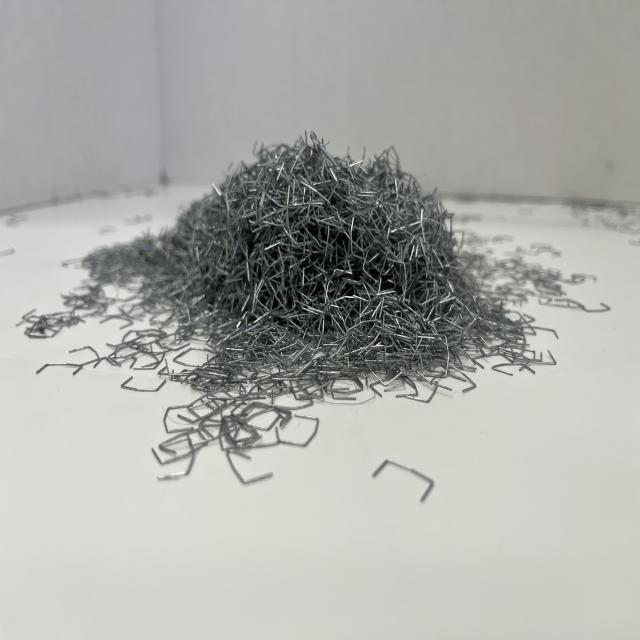staples: (21, 128, 564, 492)
